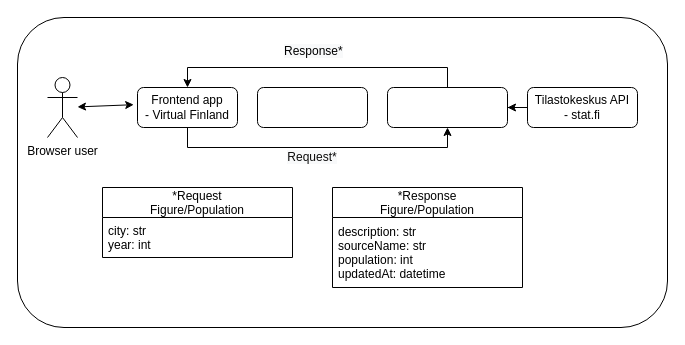
This 685x345 diagram has some shape labels left out. The centre of each missing label's shape, as x and y in pixels:
"Productizer API App - Virtual Finland" goes at point 447,107.
"Testbed API GW - testbed.fi" goes at point 312,107.
